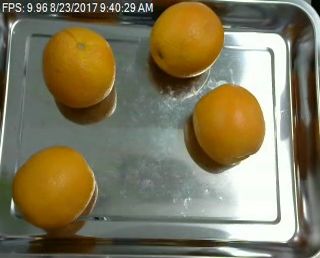Orange: (11, 147, 97, 229), (42, 28, 117, 108), (192, 84, 266, 164), (148, 1, 223, 77)
